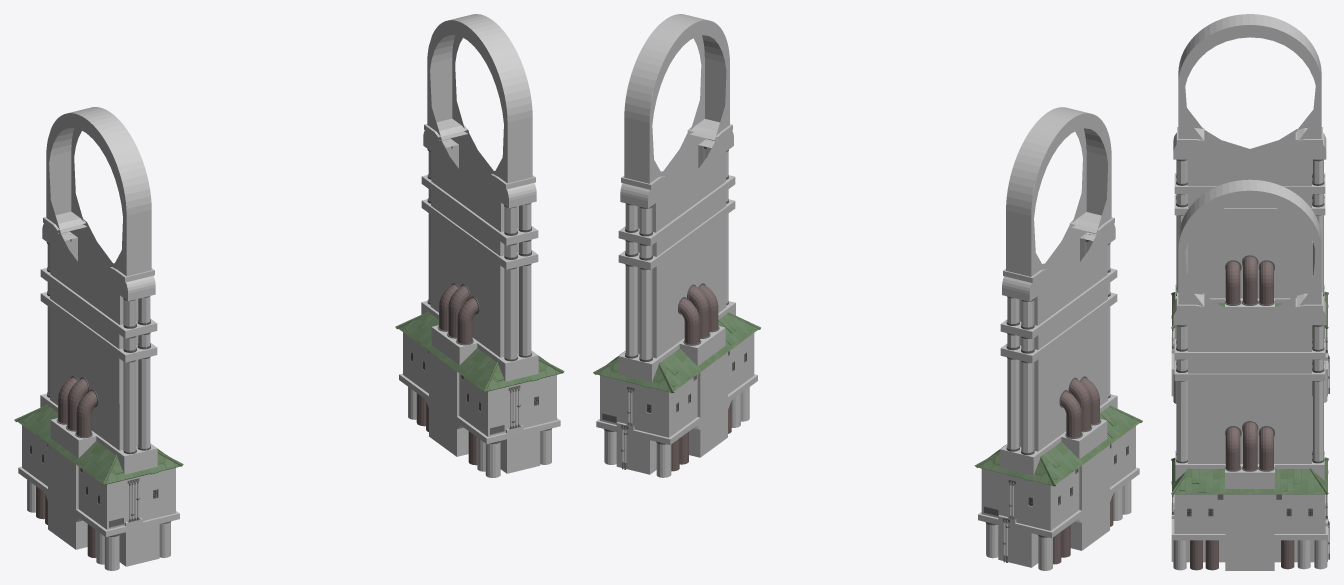
File: AreaJ_PipePillar_A.fbx
3 views of the same model, side by side, from view 1: azimuth 30°, elevation 25°; view 2: azimuth 150°, elevation 25°; view 3: azimuth 270°, elevation 25° (orthographic). The views are drawn at different scales.
Visible parts, largest first — view 1: SM_ENV_AMVLLG02_AreaJ_PipePillar_A.mo; view 2: SM_ENV_AMVLLG02_AreaJ_PipePillar_A.mo; view 3: SM_ENV_AMVLLG02_AreaJ_PipePillar_A.mo.
Boxes of the visible parts, box(x1,y1,x2,y2) form: SM_ENV_AMVLLG02_AreaJ_PipePillar_A.mo: box(14, 14, 564, 570); SM_ENV_AMVLLG02_AreaJ_PipePillar_A.mo: box(593, 14, 1142, 570); SM_ENV_AMVLLG02_AreaJ_PipePillar_A.mo: box(1171, 14, 1329, 570).
Size of the model in its own units: 5767 by 4965 by 1922.
